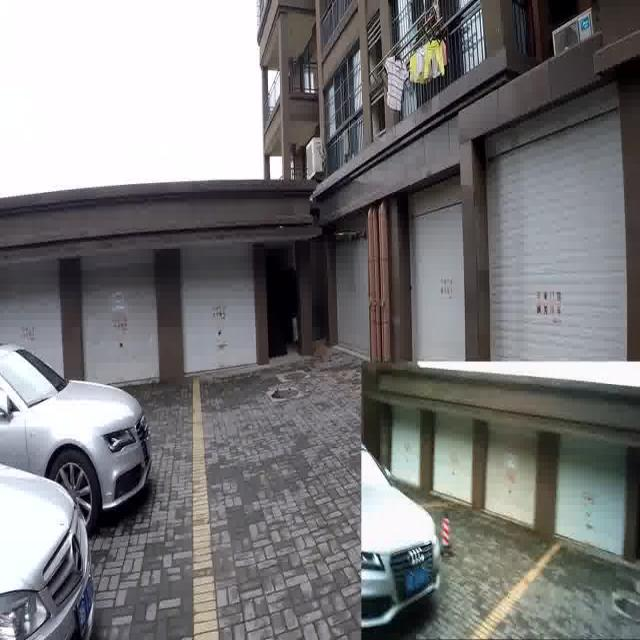drones: (330, 218, 370, 251)
